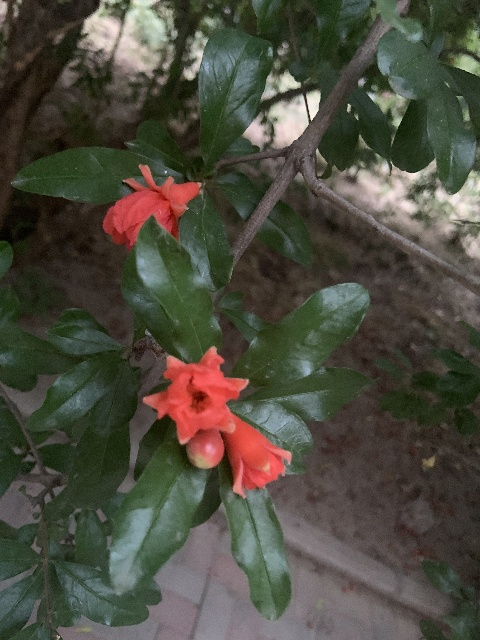bud: (185, 430, 224, 469)
flower: (142, 345, 247, 444), (102, 164, 200, 251), (222, 414, 290, 496)
